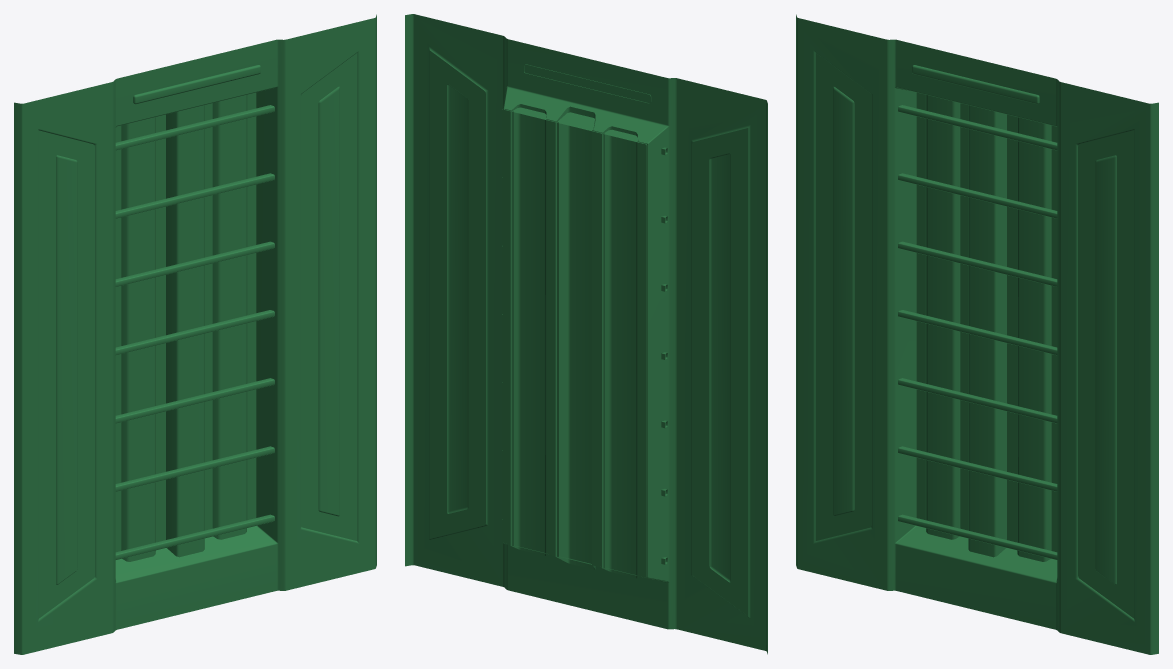
Rendered from stains.fbx.
The picture shows the model from 3 angles, left to right: view 1: azimuth 30°, elevation 25°; view 2: azimuth 150°, elevation 25°; view 3: azimuth 330°, elevation 25°; orthographic projection.
Parts seen in each view (by area): view 1: stains; view 2: stains; view 3: stains.
Part boxes in pixels (<box>): stains: <box>14,14,376,654</box>; stains: <box>405,14,767,654</box>; stains: <box>796,14,1158,654</box>.
Bounding box in the file's own units: 209 × 303 × 15.44.
